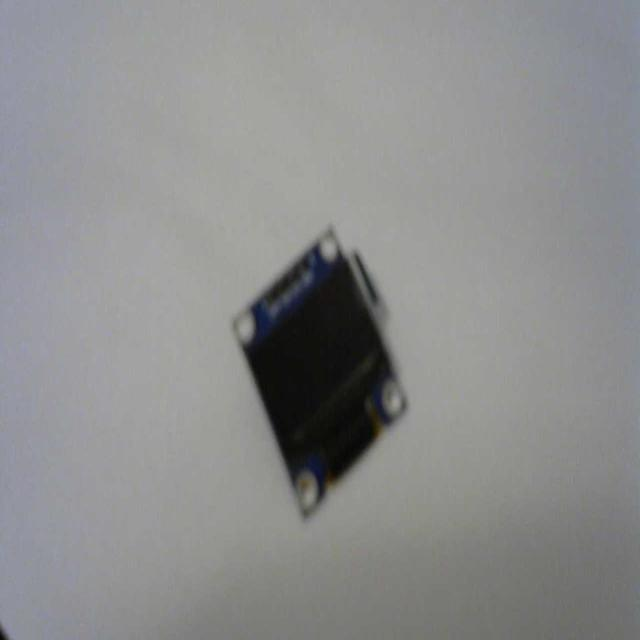oled: (229, 220, 413, 516)
